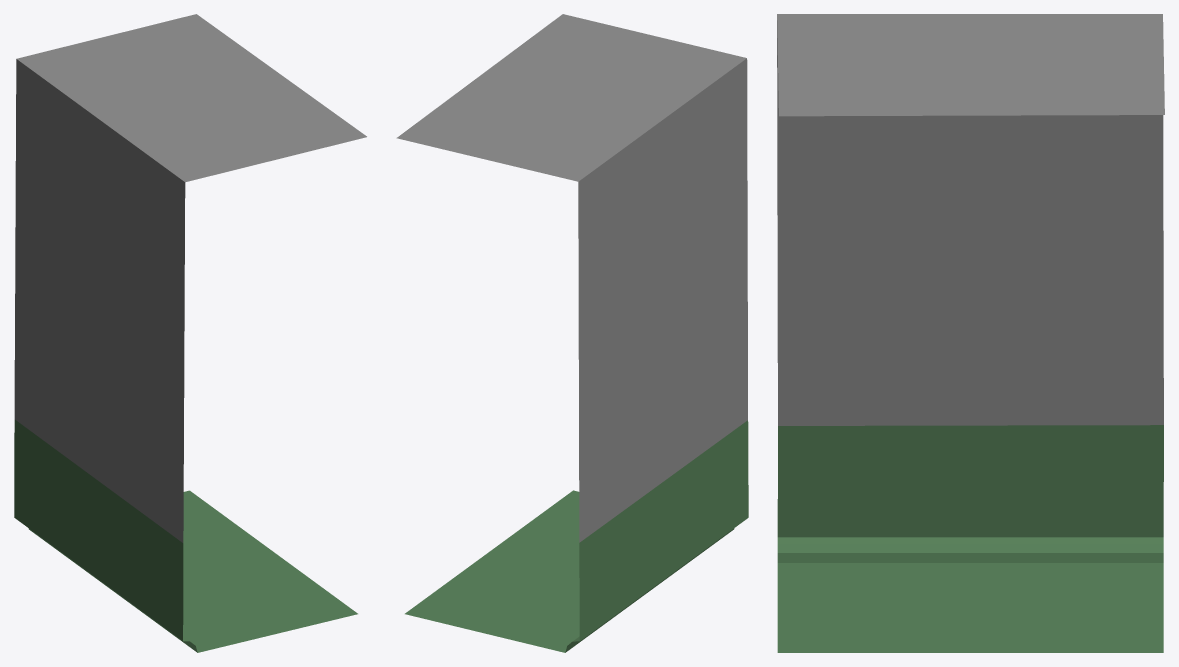
File: mapa1.fbx
3 renders of one model, left to right at view 1: azimuth 30°, elevation 25°; view 2: azimuth 150°, elevation 25°; view 3: azimuth 270°, elevation 25°, orthographic. The views are drawn at different scales.
Parts seen in each view (by area): view 1: pPlane9; view 2: pPlane9; view 3: pPlane9.
Boxes of the visible parts, x1=… form: pPlane9: x1=14, y1=14, x2=366, y2=652; pPlane9: x1=396, y1=14, x2=748, y2=652; pPlane9: x1=777, y1=14, x2=1164, y2=652.
Bounding box in the file's own units: 3.46 × 8.47 × 5.49.
